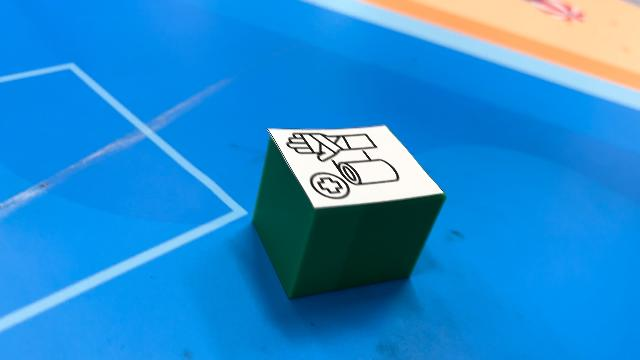bandage: (252, 123, 446, 299)
